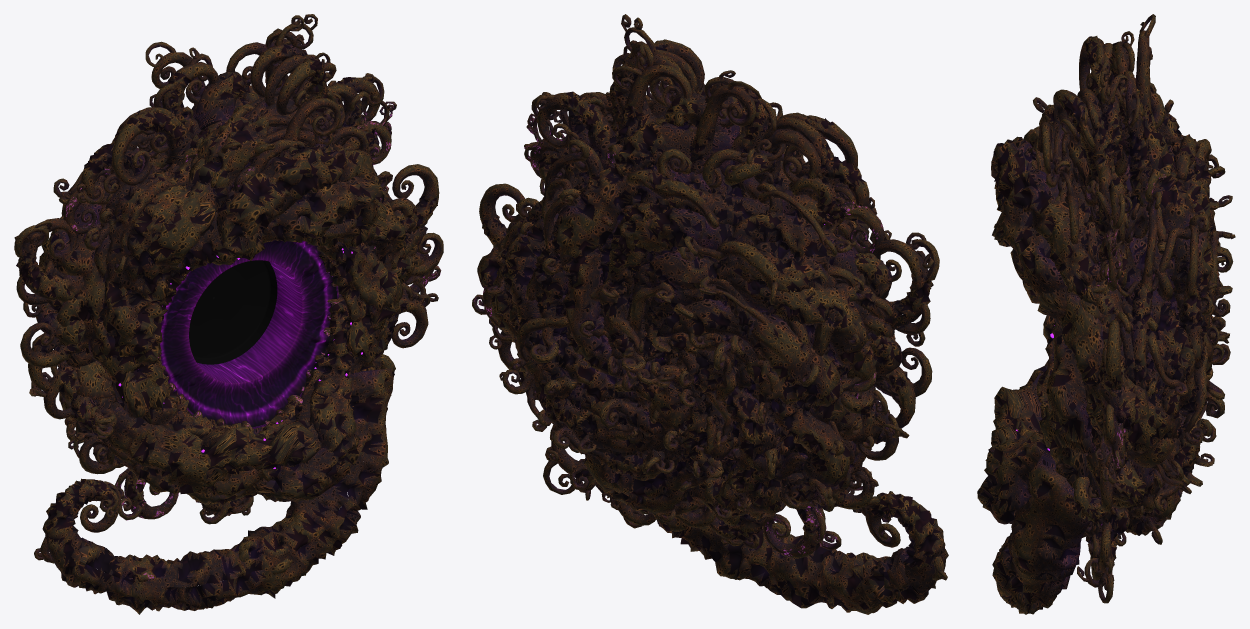
The picture shows the model from 3 angles, left to right: view 1: azimuth 30°, elevation 25°; view 2: azimuth 150°, elevation 25°; view 3: azimuth 270°, elevation 25°; orthographic projection. The views are drawn at different scales.
Parts seen in each view (by area): view 1: BlackHole_Structure; view 2: BlackHole_Structure; view 3: BlackHole_Structure.
Boxes of the visible parts, x1,y1,x2,y2 form: BlackHole_Structure: [14, 14, 443, 614]; BlackHole_Structure: [472, 14, 948, 614]; BlackHole_Structure: [977, 14, 1235, 614].
Bounding box in the file's own units: 100 × 120 × 48.
Materials: 7 (4 with a texture image).
